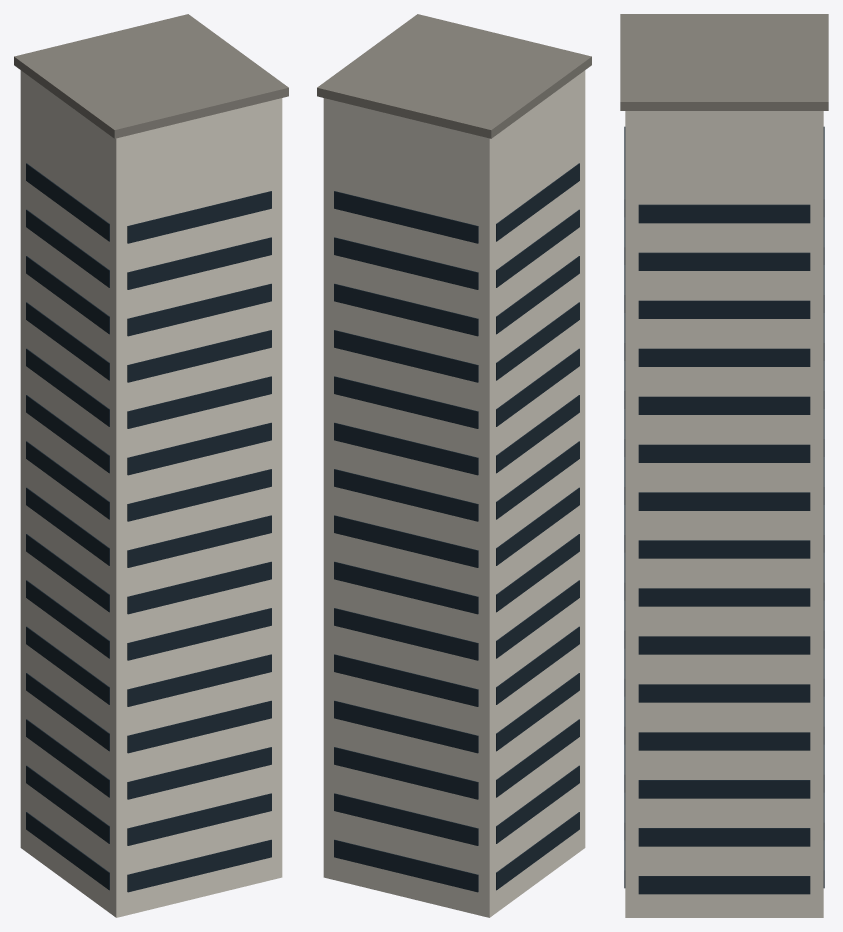
The model's file is Building3.glb.
3 views of the same model, side by side, from view 1: azimuth 30°, elevation 25°; view 2: azimuth 150°, elevation 25°; view 3: azimuth 270°, elevation 25° (orthographic). The views are drawn at different scales.
Parts seen in each view (by area): view 1: Building3; view 2: Building3; view 3: Building3.
Boxes of the visible parts, bbox=[...] form: Building3: bbox=[14, 14, 288, 917]; Building3: bbox=[317, 14, 591, 917]; Building3: bbox=[620, 14, 828, 917].
Bounding box in the file's own units: 12.6 × 54.6 × 12.6.
